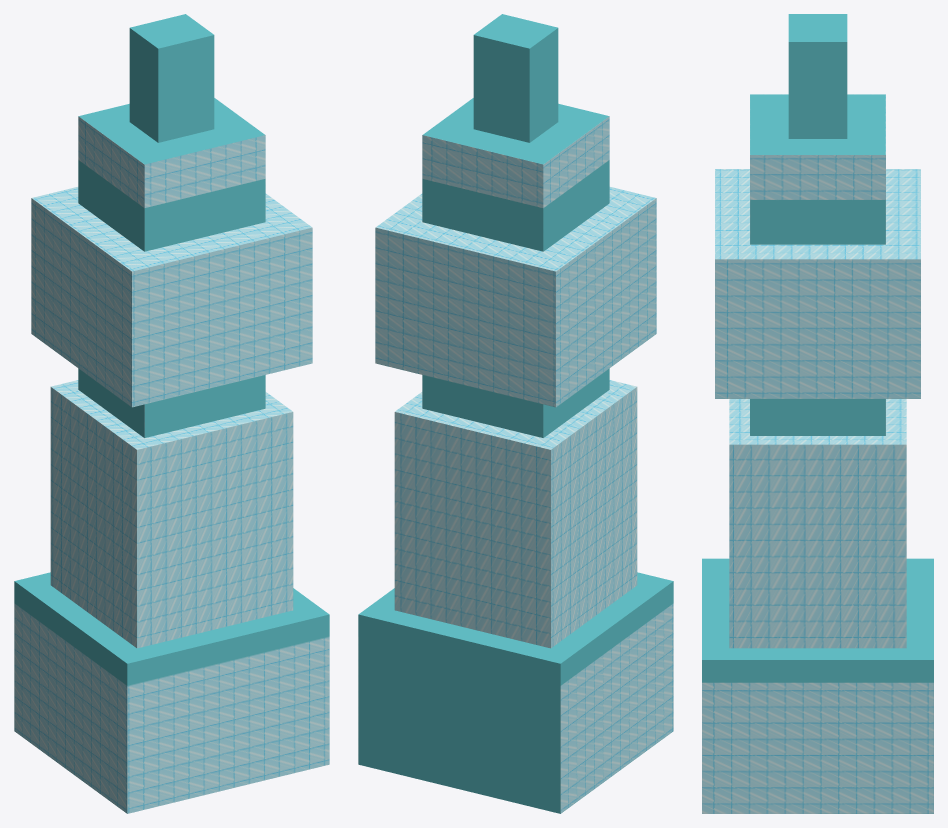
The model's file is bina1.fbx.
The picture shows the model from 3 angles, left to right: view 1: azimuth 30°, elevation 25°; view 2: azimuth 150°, elevation 25°; view 3: azimuth 270°, elevation 25°; orthographic projection. The views are drawn at different scales.
Parts seen in each view (by area): view 1: bina1_; view 2: bina1_; view 3: bina1_.
Boxes of the visible parts, box(x1,y1,x2,y2) form: bina1_: box(14, 14, 329, 813); bina1_: box(358, 14, 673, 813); bina1_: box(702, 14, 933, 813).
Bounding box in the file's own units: 14.96 × 50.66 × 14.47.
